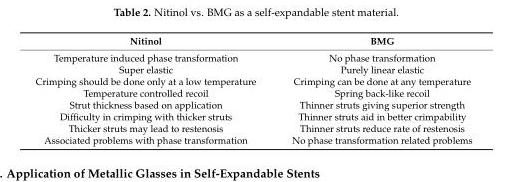table: (34, 34, 471, 145)
table column: (34, 34, 273, 145), (273, 34, 471, 145)
table column header: (34, 34, 471, 48)
table row: (34, 48, 471, 63), (34, 34, 471, 48), (34, 74, 471, 86), (34, 86, 471, 98), (34, 98, 471, 110), (34, 121, 471, 133), (34, 133, 471, 145), (34, 63, 471, 74), (34, 110, 471, 121)
